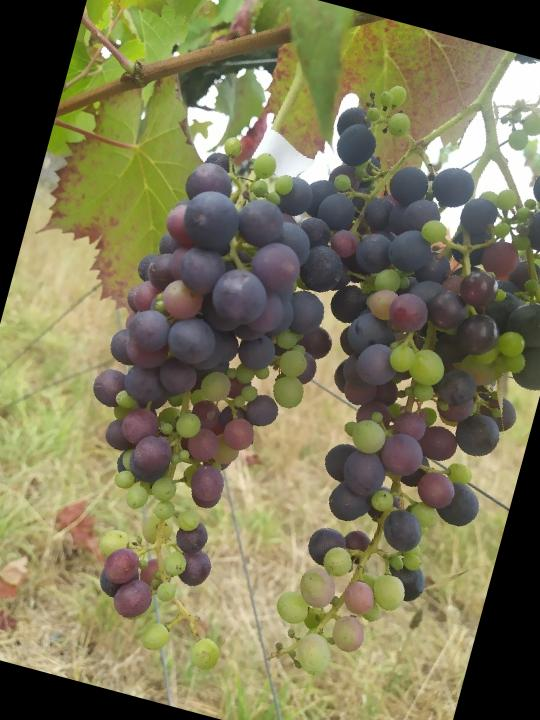grape: (198, 63, 540, 717), (26, 120, 380, 685)
